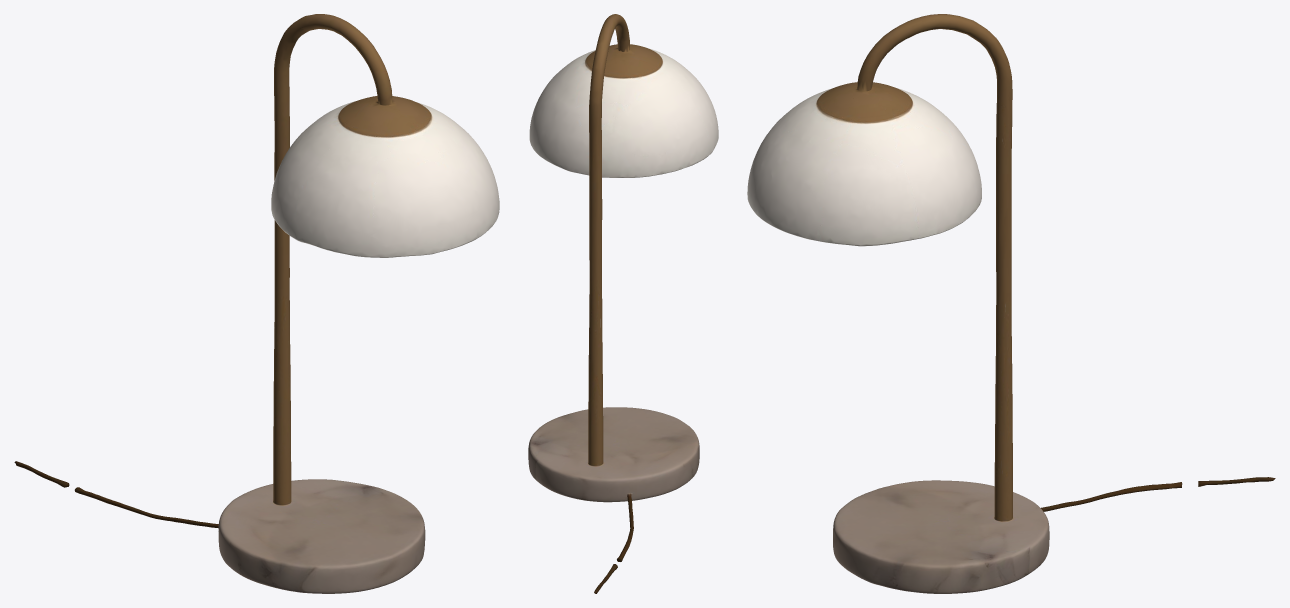
Rendered from lamp.glb.
3 views of the same model, side by side, from view 1: azimuth 30°, elevation 25°; view 2: azimuth 150°, elevation 25°; view 3: azimuth 270°, elevation 25° (orthographic). The views are drawn at different scales.
Visible parts, largest first — view 1: tripo_node_47e6d8e6-5c72-46ec-bd4b-6cb791148f03; view 2: tripo_node_47e6d8e6-5c72-46ec-bd4b-6cb791148f03; view 3: tripo_node_47e6d8e6-5c72-46ec-bd4b-6cb791148f03.
Boxes of the visible parts, box(x1,y1,x2,y2) form: tripo_node_47e6d8e6-5c72-46ec-bd4b-6cb791148f03: box(14, 14, 499, 593); tripo_node_47e6d8e6-5c72-46ec-bd4b-6cb791148f03: box(528, 14, 718, 593); tripo_node_47e6d8e6-5c72-46ec-bd4b-6cb791148f03: box(747, 14, 1275, 593).
Size of the model in its own units: 0.5233 by 1 by 0.8845.
Materials: 1 (1 with a texture image).
